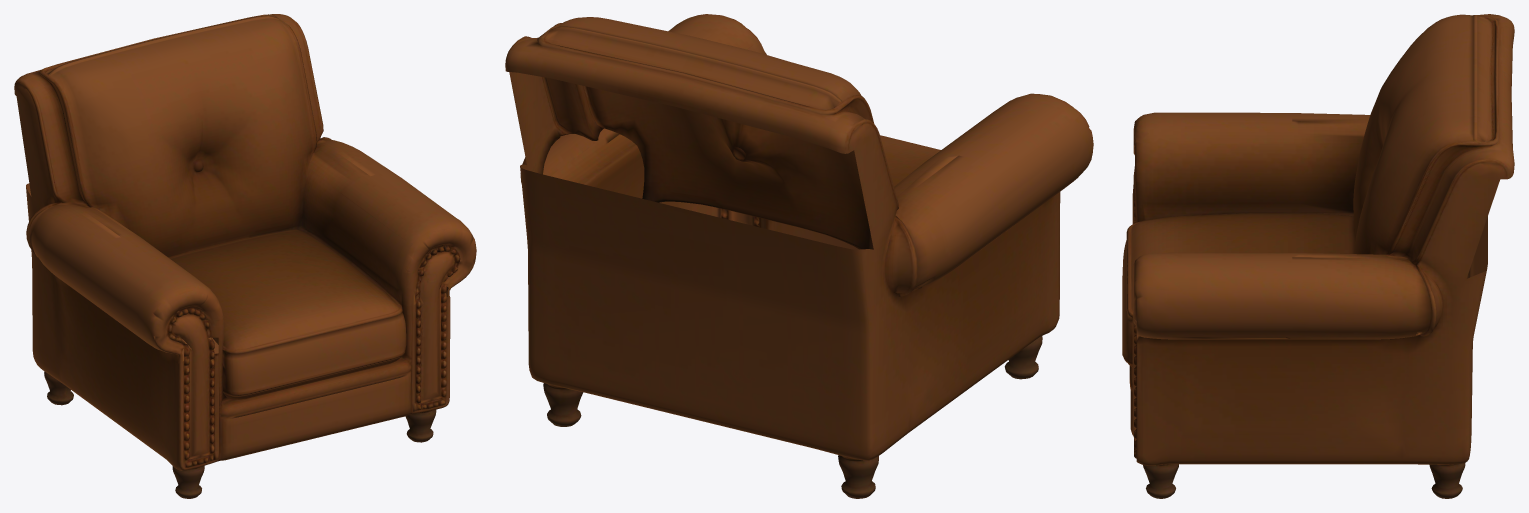
File: a_leather_armchair_d60f1c61_v1.glb
3 views of the same model, side by side, from view 1: azimuth 30°, elevation 25°; view 2: azimuth 150°, elevation 25°; view 3: azimuth 270°, elevation 25° (orthographic). The views are drawn at different scales.
Visible parts, largest first — view 1: material; view 2: material; view 3: material.
Boxes of the visible parts, x1,y1,x2,y2 form: material: [14, 14, 476, 498]; material: [505, 14, 1093, 498]; material: [1122, 14, 1514, 498].
Size of the model in its own units: 1.9 by 1.8 by 1.76.
1 material, 1 textured.
